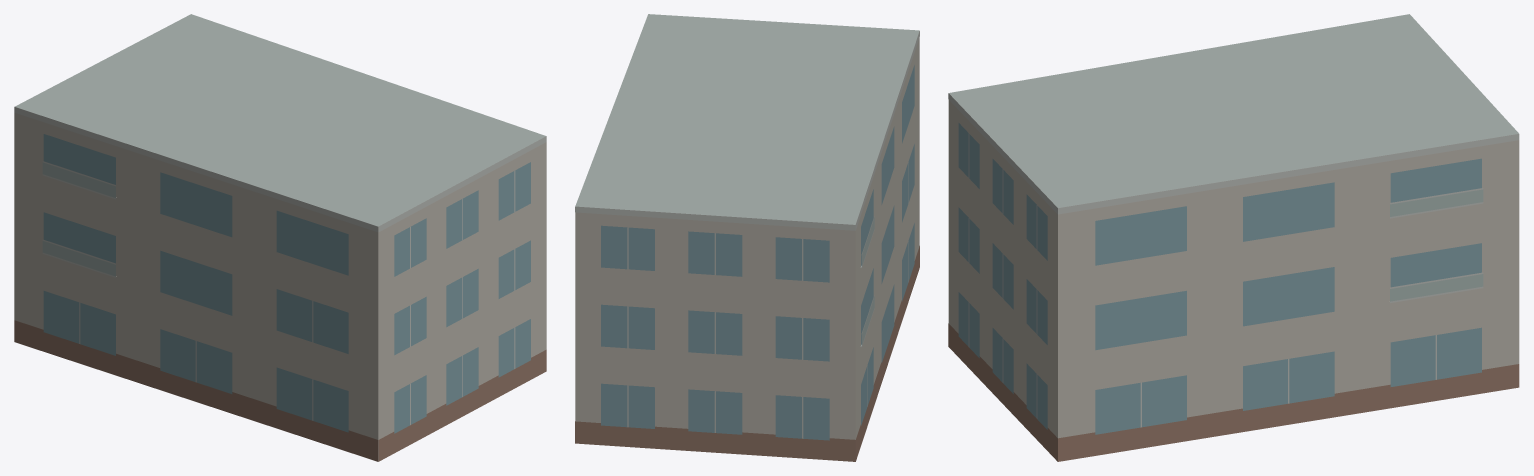
The model's file is survey-upis-33035623.glb.
3 renders of one model, left to right at view 1: azimuth 30°, elevation 25°; view 2: azimuth 150°, elevation 25°; view 3: azimuth 270°, elevation 25°, orthographic. The views are drawn at different scales.
Parts seen in each view (by area): view 1: survey-upis-33035623.tmp; view 2: survey-upis-33035623.tmp; view 3: survey-upis-33035623.tmp.
Boxes of the visible parts, box(x1,y1,x2,y2) form: survey-upis-33035623.tmp: box(14, 14, 546, 461); survey-upis-33035623.tmp: box(575, 14, 919, 461); survey-upis-33035623.tmp: box(948, 14, 1519, 461).
Size of the model in its own units: 16.1 by 9.8 by 20.
